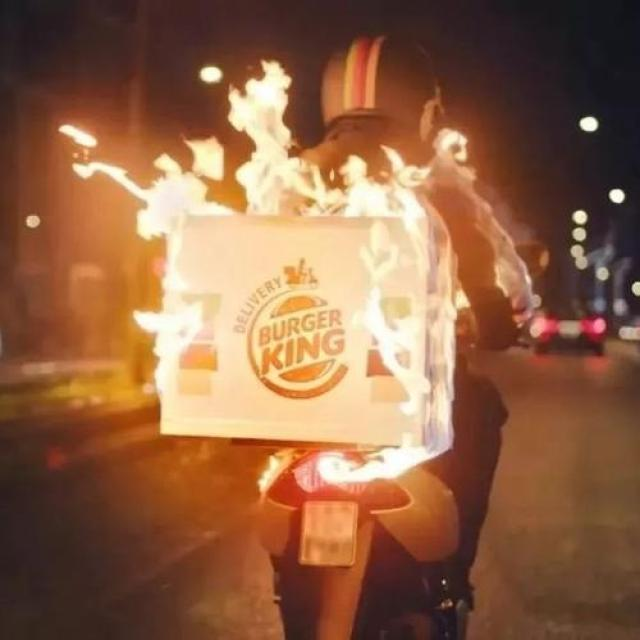Fire: (55, 58, 540, 488)
